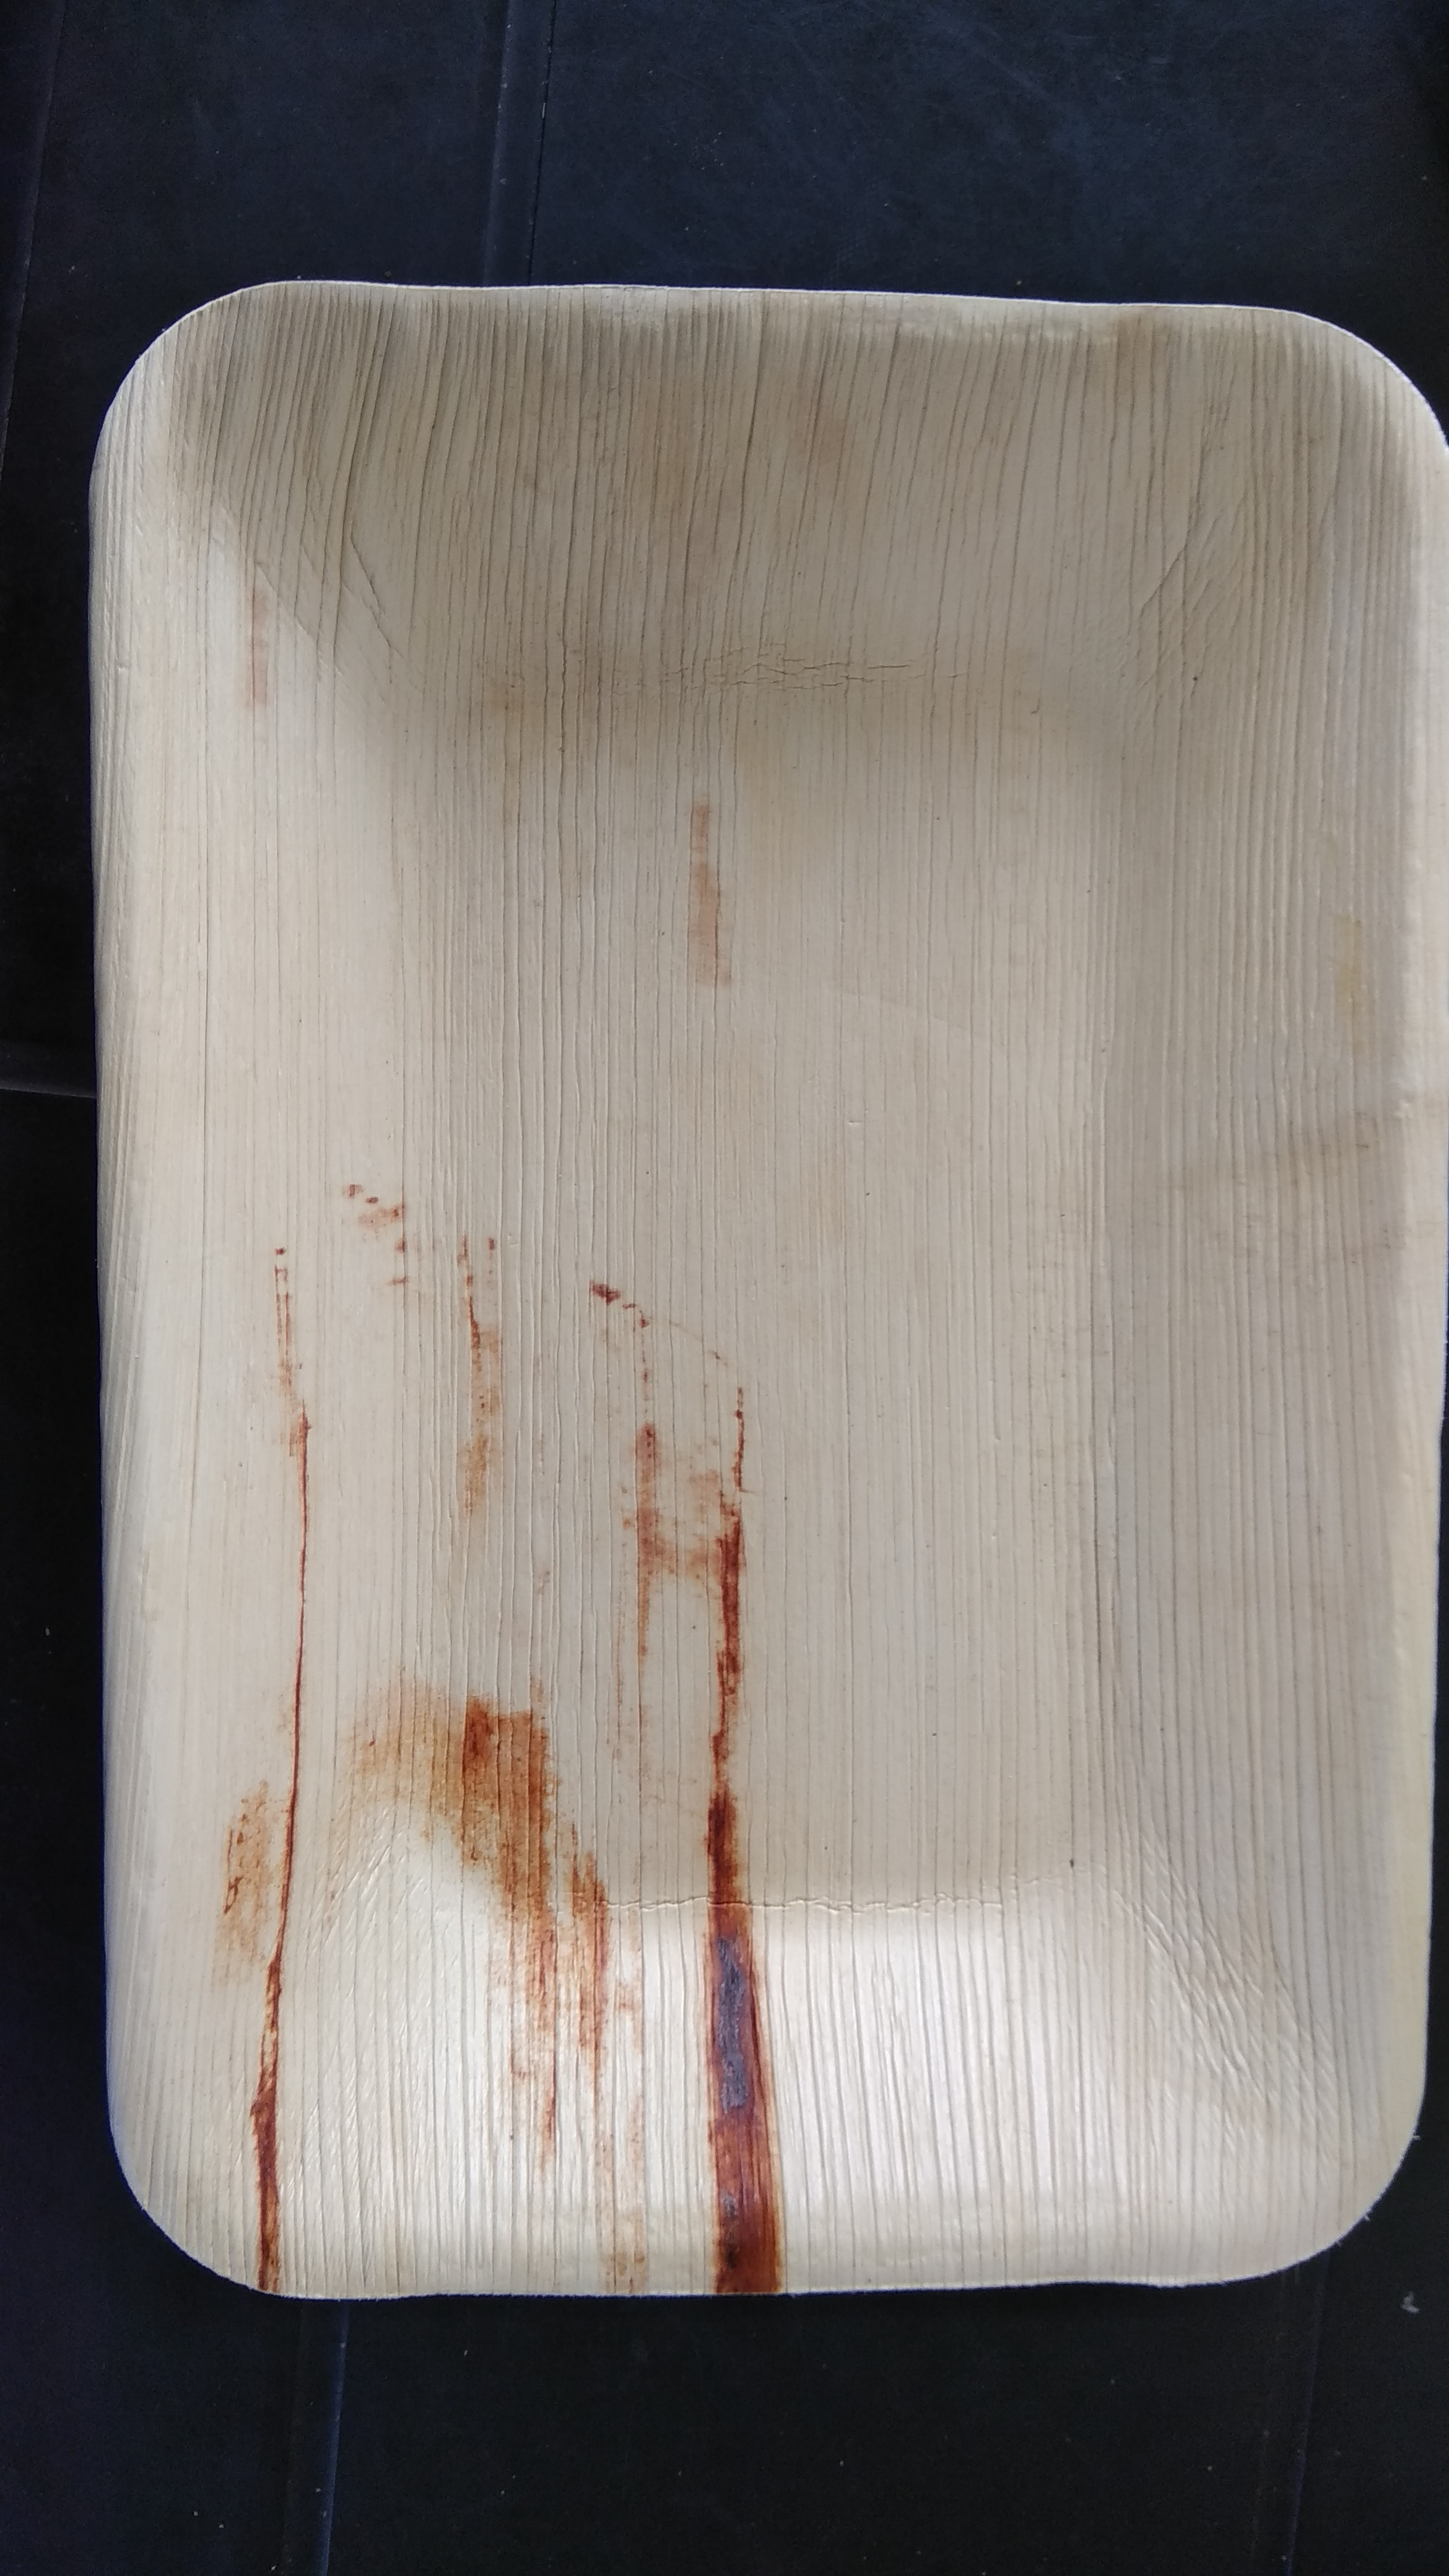areca plate: (111, 239, 1437, 2312)
